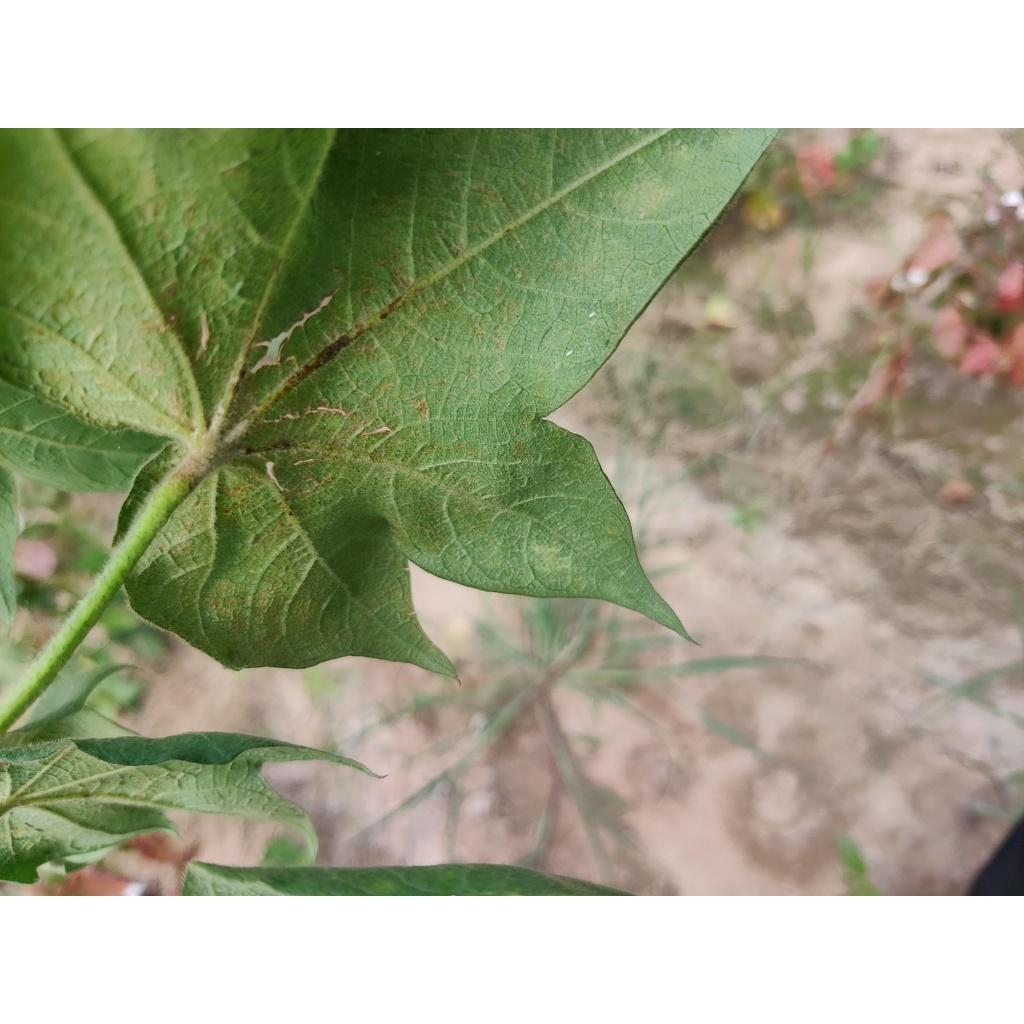adult: (588, 311, 597, 319), (565, 349, 574, 356)
